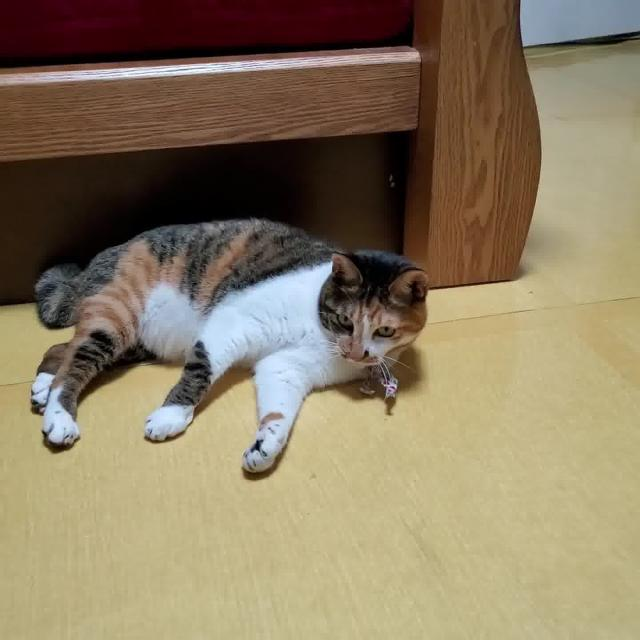cat: (14, 212, 435, 481)
